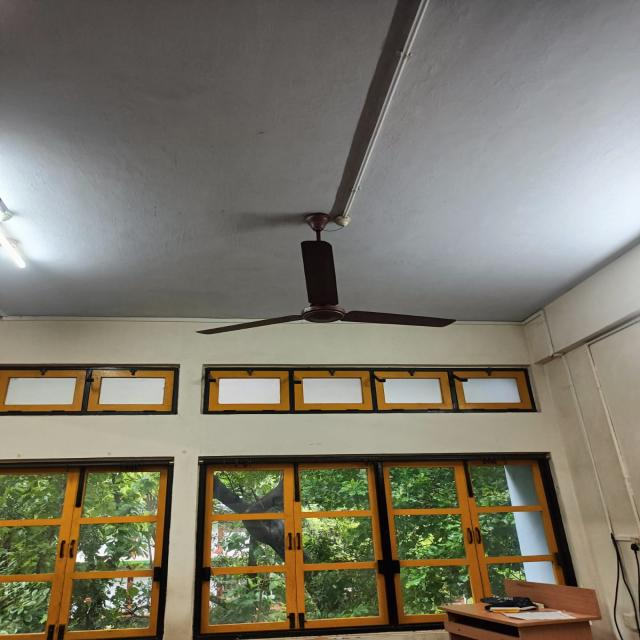fan_off: (194, 239, 462, 340)
